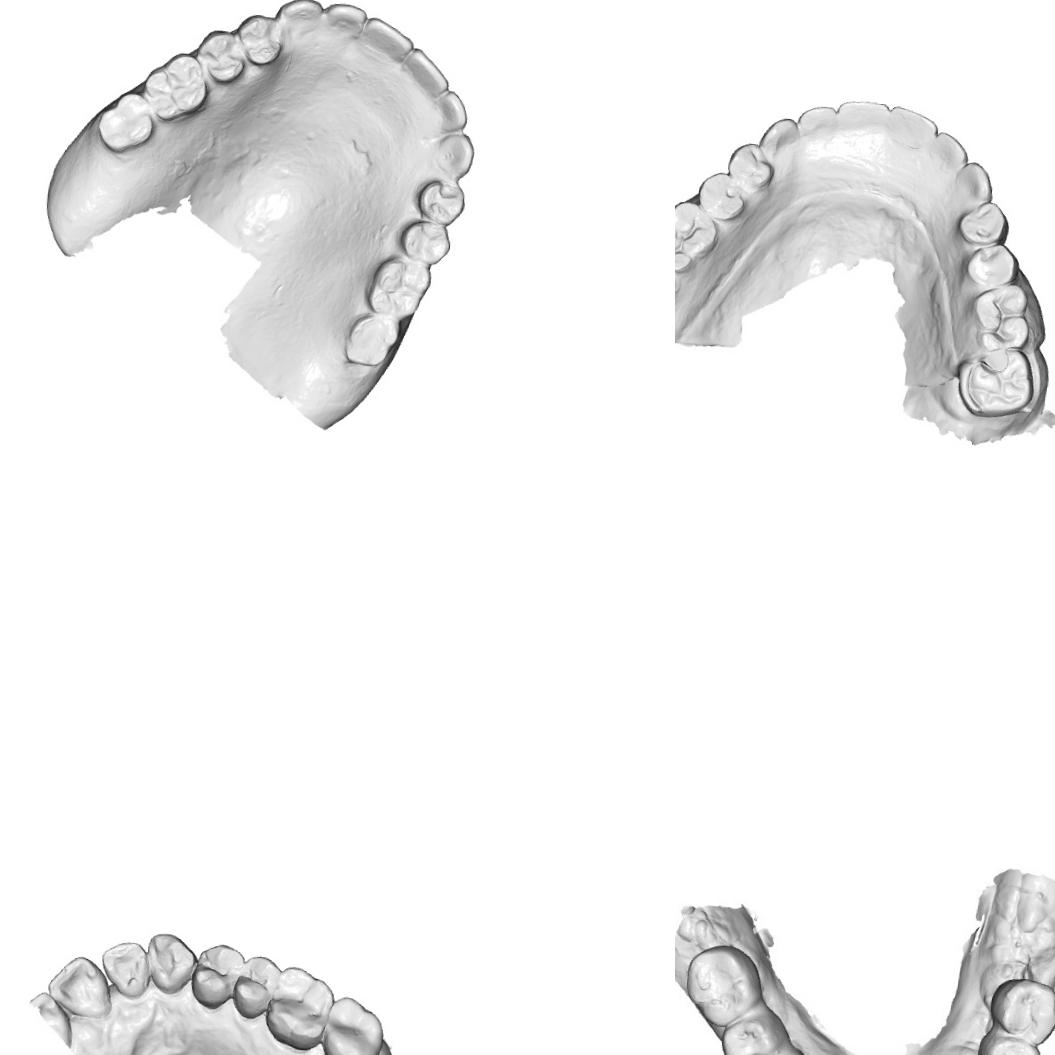canine: (142, 929, 199, 997), (430, 128, 484, 180), (754, 112, 802, 164), (949, 158, 996, 206), (275, 0, 324, 34)
incisor: (44, 952, 115, 1022), (96, 936, 152, 1000), (831, 95, 892, 147), (357, 13, 416, 66), (395, 45, 450, 98), (884, 102, 942, 151), (928, 128, 972, 175), (428, 89, 473, 134), (794, 100, 838, 146), (319, 0, 366, 39)
molar: (676, 940, 758, 1032), (951, 341, 1036, 423), (260, 963, 336, 1053), (139, 47, 211, 124), (368, 250, 436, 322), (968, 280, 1034, 353), (318, 993, 387, 1055), (93, 90, 157, 154), (675, 194, 723, 276), (338, 310, 400, 370)
premolar: (989, 973, 1055, 1049), (187, 940, 247, 1012), (229, 952, 284, 1022), (718, 1008, 784, 1055), (693, 168, 748, 224), (396, 216, 455, 268), (962, 239, 1022, 289), (196, 26, 246, 85), (954, 196, 1011, 247), (234, 8, 283, 66), (723, 139, 776, 191), (415, 174, 466, 221), (984, 1032, 1040, 1055)
